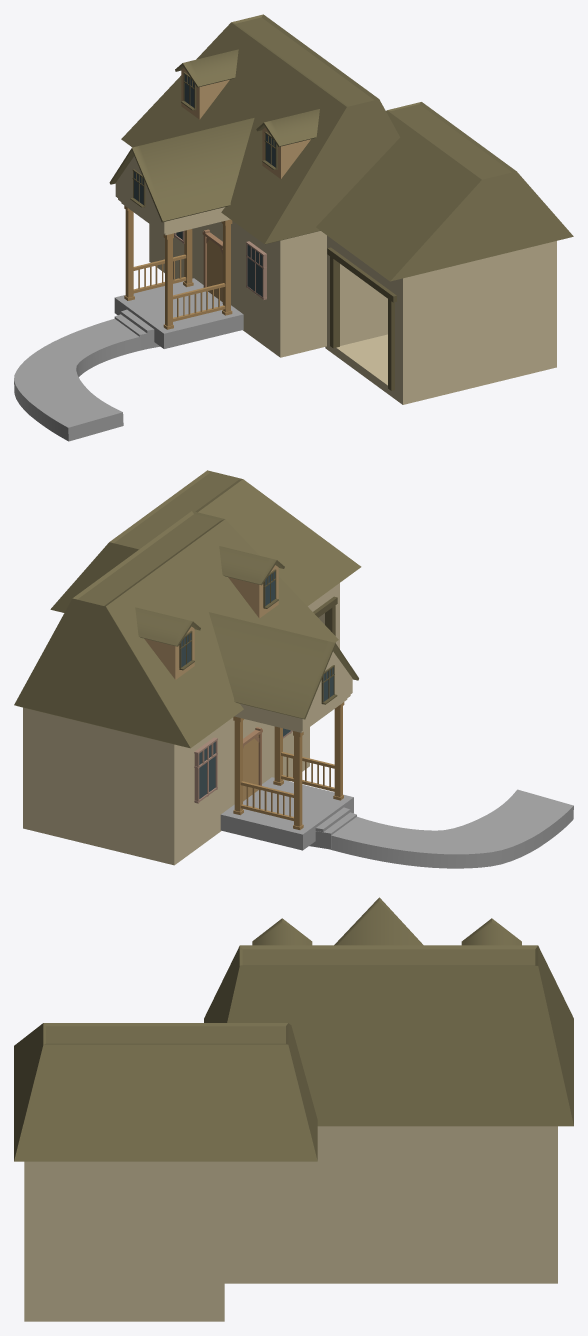
File: house1.fbx
The picture shows the model from 3 angles, top to bottom: view 1: azimuth 30°, elevation 25°; view 2: azimuth 150°, elevation 25°; view 3: azimuth 270°, elevation 25°; orthographic projection. The views are drawn at different scales.
Visible parts, largest first — view 1: house1; view 2: house1; view 3: house1.
Boxes of the visible parts, x1,y1,x2,y2 form: house1: (14,14,573,441); house1: (14,470,573,868); house1: (14,897,573,1321).
Bounding box in the file's own units: 2049 × 1034 × 1711.
